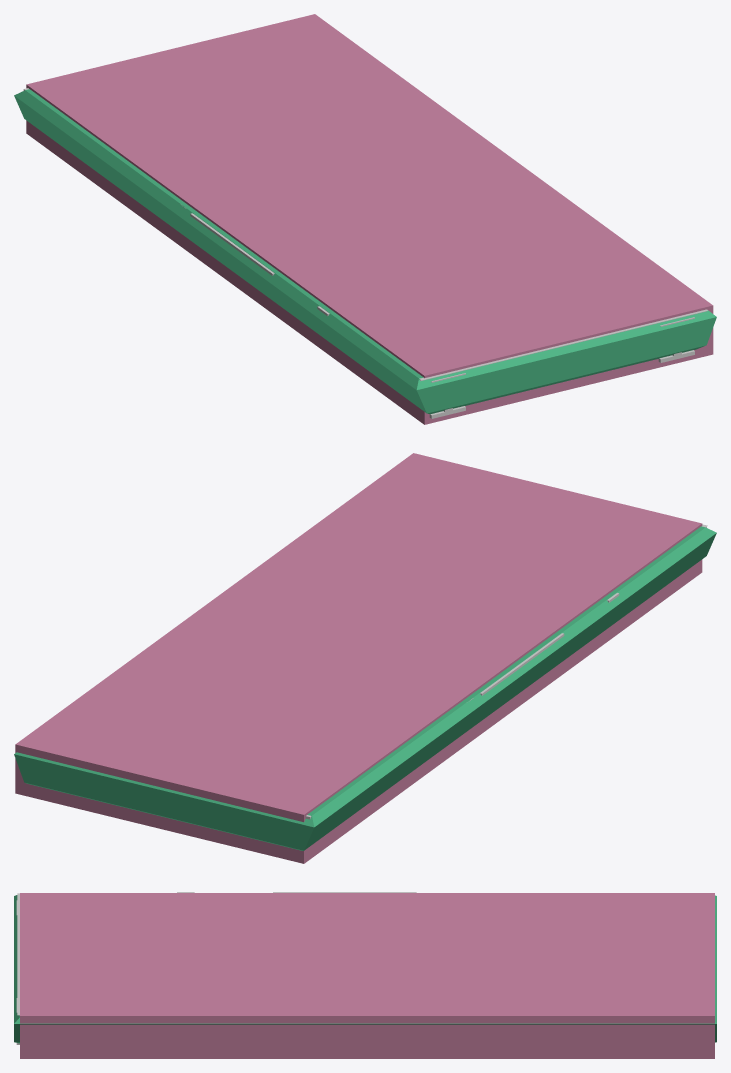
Rendered from ind_obj_04_a.dae.
3 views of the same model, one above another, from view 1: azimuth 30°, elevation 25°; view 2: azimuth 150°, elevation 25°; view 3: azimuth 270°, elevation 25° (orthographic). The views are drawn at different scales.
Parts seen in each view (by area): view 1: Untitled, Colmesh-1, tree_oak_bush_a100, tree_oak_bush_a300; view 2: Untitled, Colmesh-1; view 3: Untitled, Colmesh-1, tree_oak_bush_a20.
Part boxes in pixels (left/top/right/bottom): Untitled: left=26, top=14, right=713, bottom=424; Colmesh-1: left=14, top=89, right=716, bottom=414; tree_oak_bush_a100: left=24, top=88, right=694, bottom=418; tree_oak_bush_a300: left=23, top=89, right=706, bottom=409; Untitled: left=15, top=453, right=702, bottom=863; Colmesh-1: left=14, top=526, right=716, bottom=850; Untitled: left=20, top=893, right=714, bottom=1058; Colmesh-1: left=14, top=895, right=716, bottom=1043; tree_oak_bush_a20: left=17, top=893, right=19, bottom=1015.
Size of the model in its own units: 2.62 by 6.09 by 0.4095.
